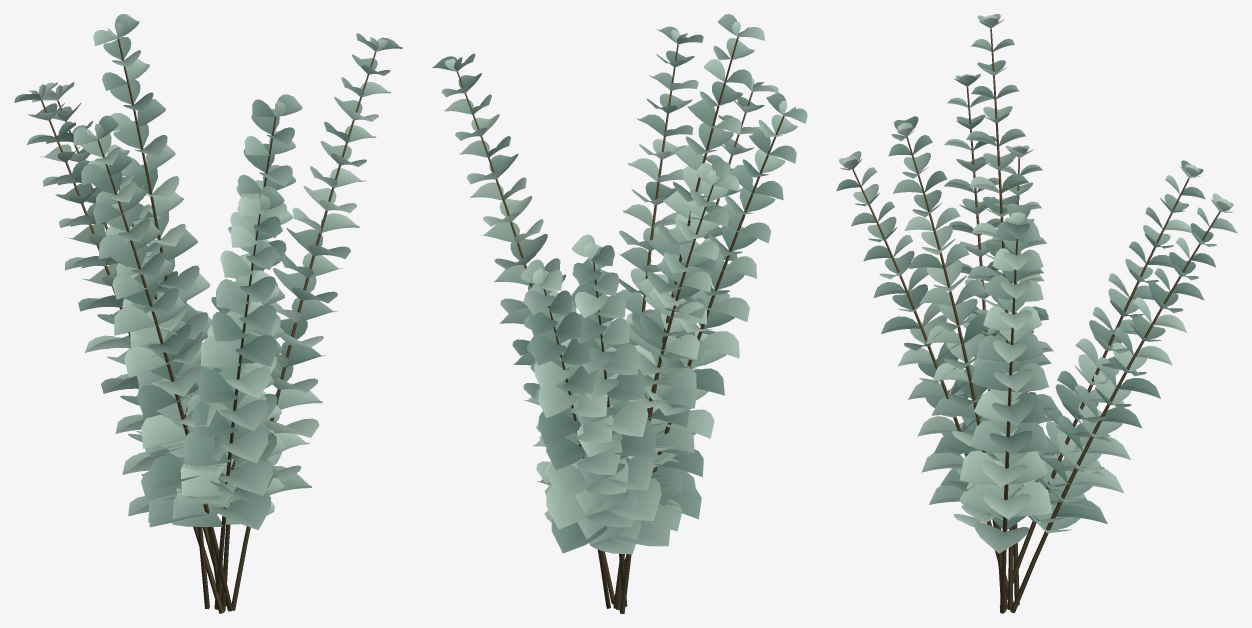
File: euc.glb
3 views of the same model, side by side, from view 1: azimuth 30°, elevation 25°; view 2: azimuth 150°, elevation 25°; view 3: azimuth 270°, elevation 25° (orthographic). The views are drawn at different scales.
Size of the model in its own units: 0.4569 by 0.7641 by 0.5085.
Materials: 1 (1 with a texture image).
